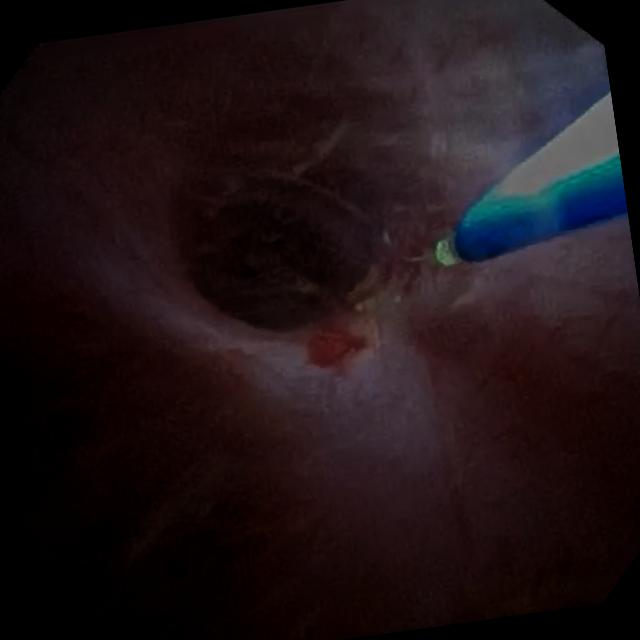laser-fibre: (435, 234, 464, 265)
